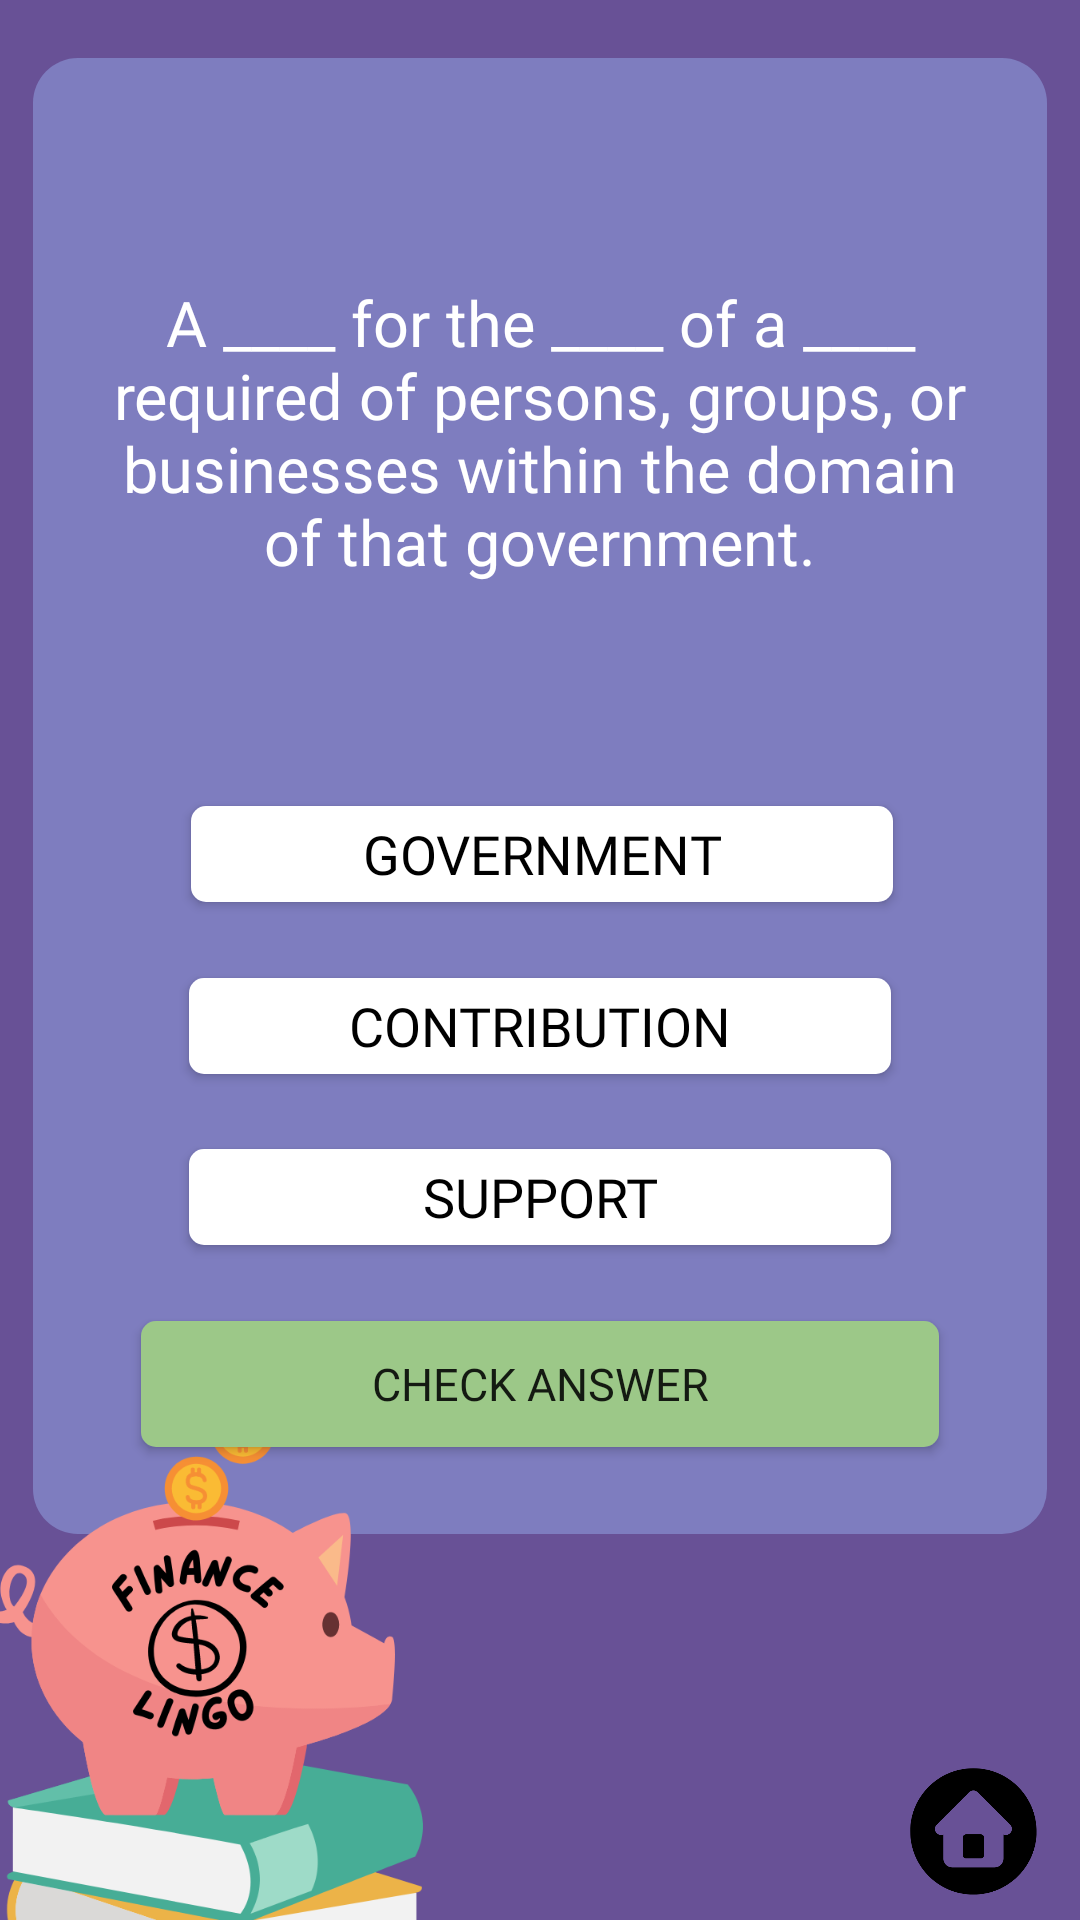

Screen size 1080px x 1920px. Icon name, then its center in pixels as (x=x, y=y):
home: (x=973, y=1831)
